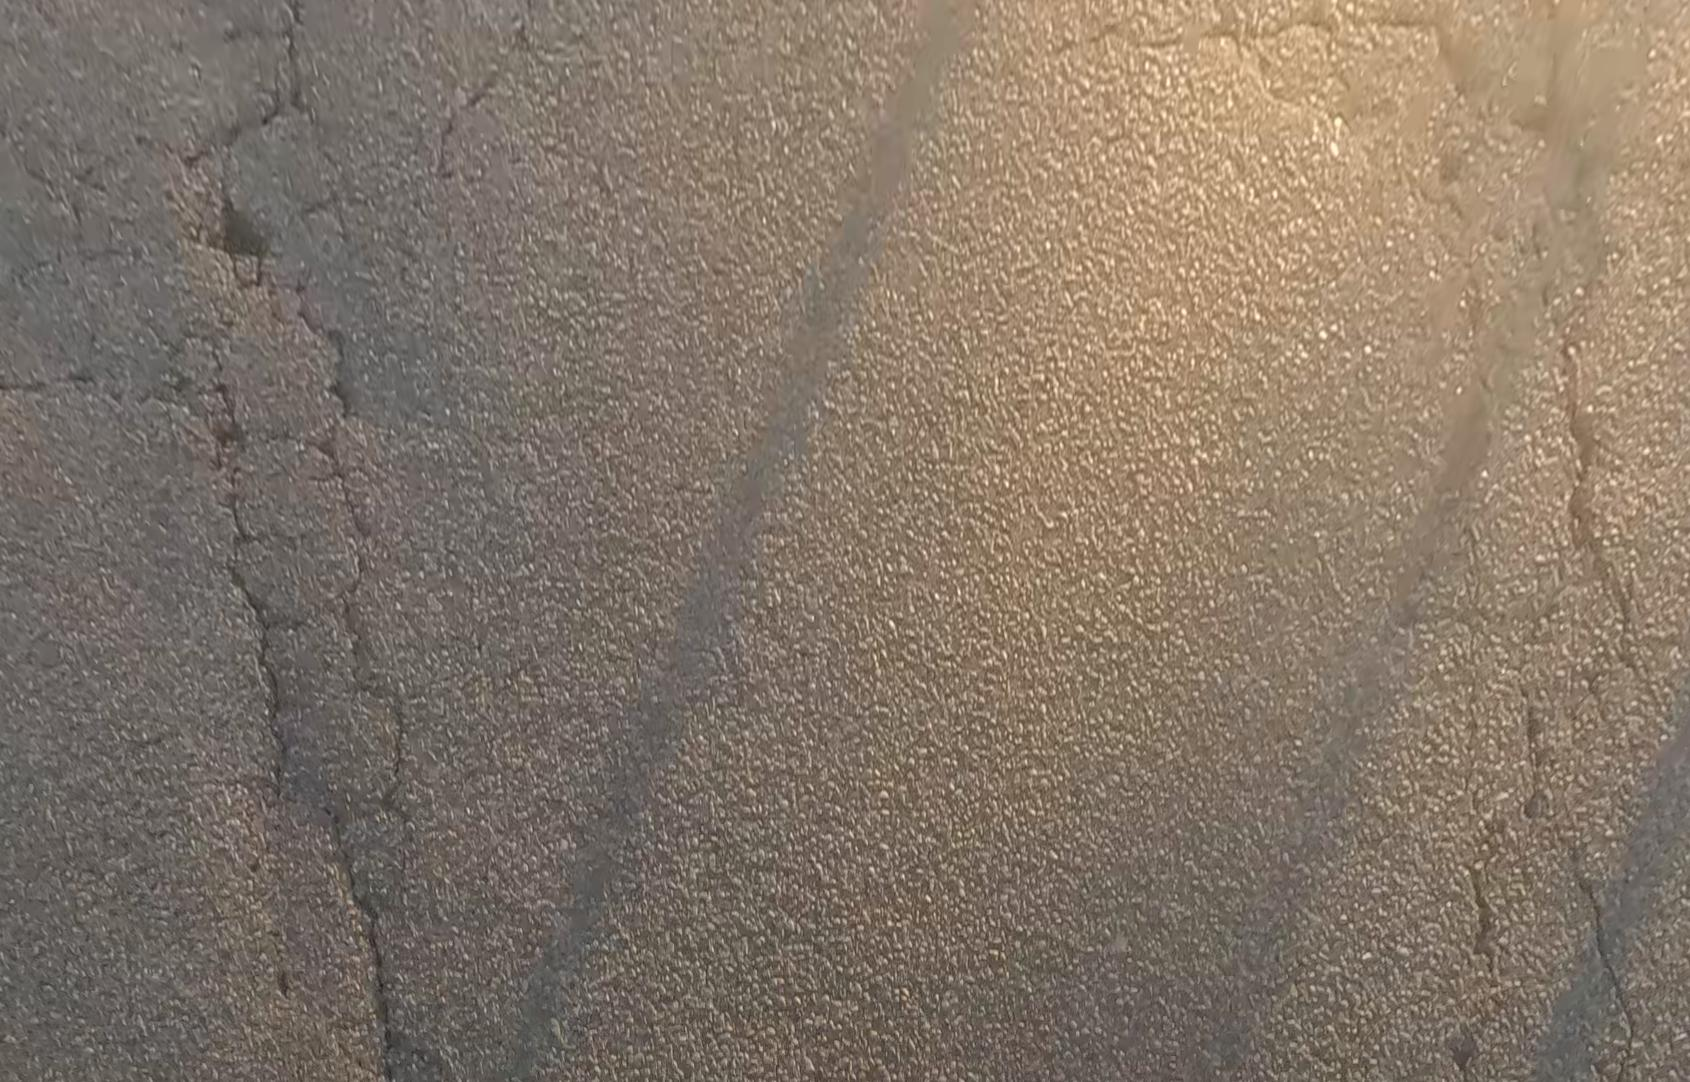pothole: (208, 190, 267, 262)
